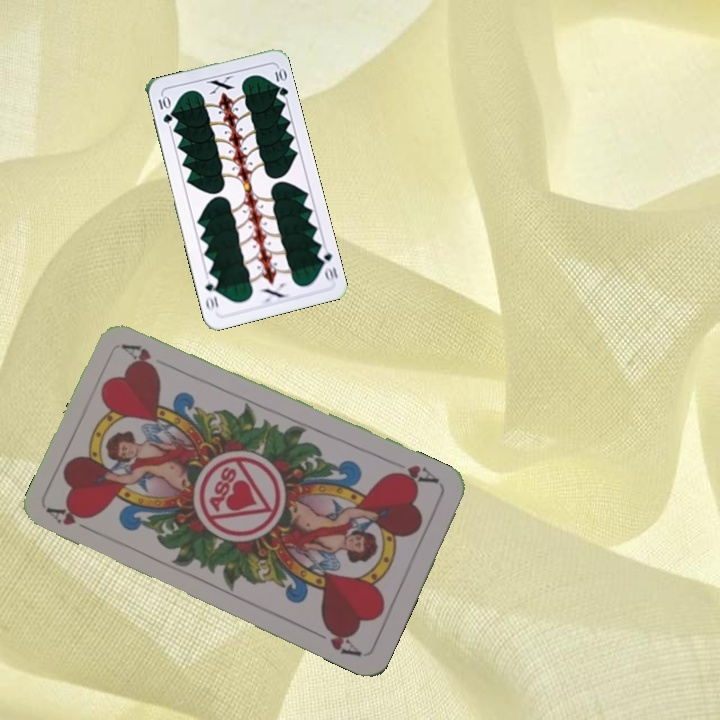G10: (314, 245, 341, 283), (154, 91, 175, 126)
HA: (44, 501, 101, 537), (386, 460, 442, 488)
